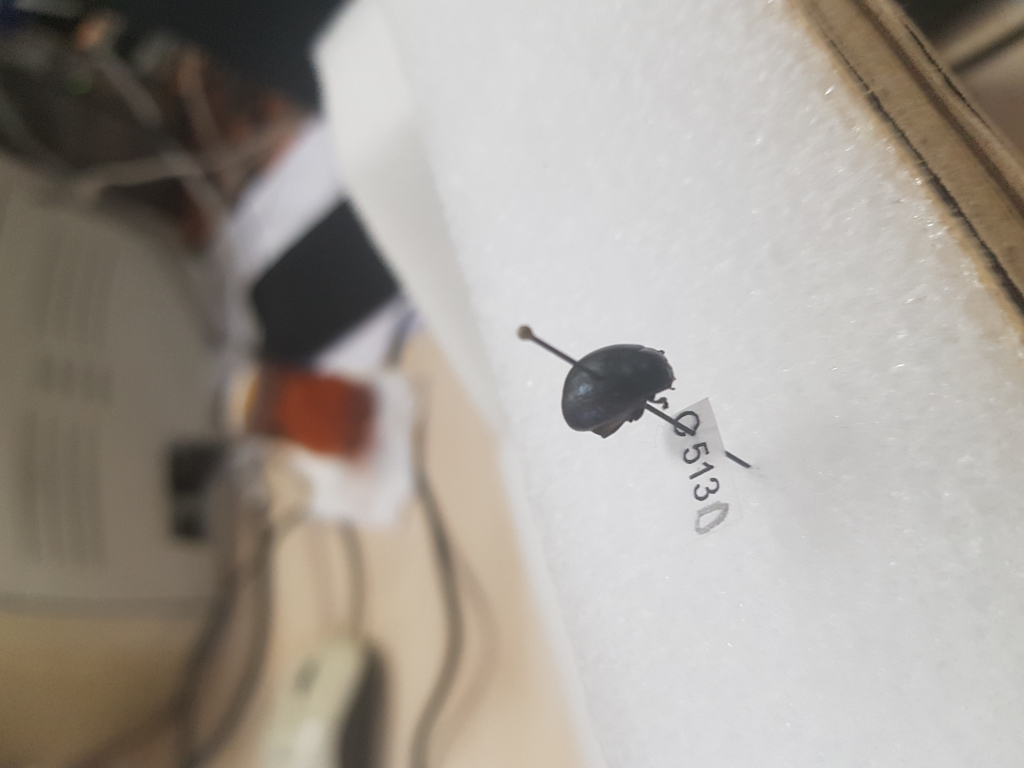Chrysolina_oricalcia: (555, 335, 681, 439)
